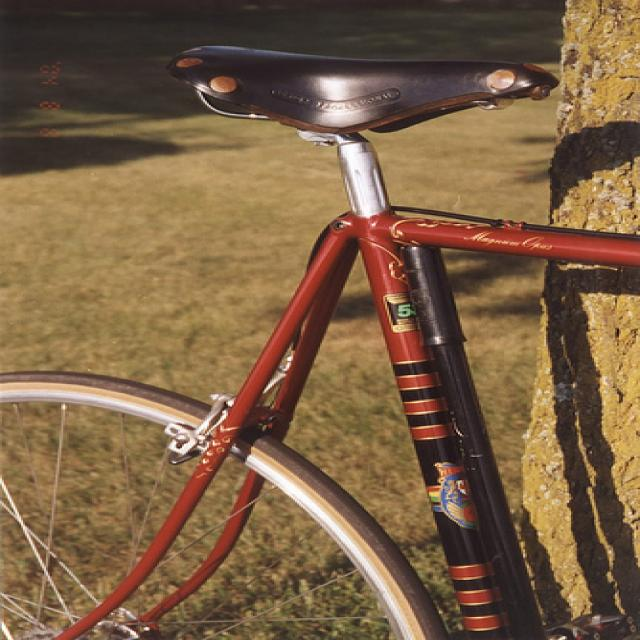bicycle: (1, 45, 639, 640)
